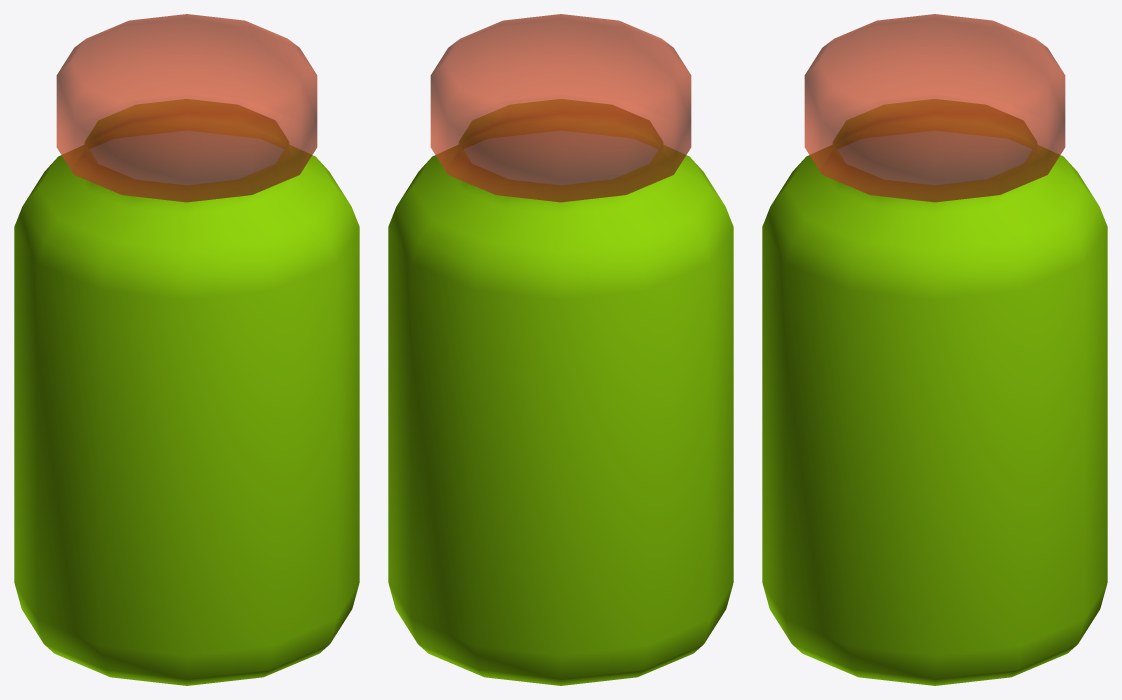
Rendered from SPP_MOD_Antidote_01.fbx.
3 renders of one model, left to right at view 1: azimuth 30°, elevation 25°; view 2: azimuth 150°, elevation 25°; view 3: azimuth 270°, elevation 25°, orthographic.
Visible parts, largest first — view 1: SPP_MOD_Antidote_01; view 2: SPP_MOD_Antidote_01; view 3: SPP_MOD_Antidote_01.
Boxes of the visible parts, box(x1,y1,x2,y2) form: SPP_MOD_Antidote_01: box(14, 14, 359, 685); SPP_MOD_Antidote_01: box(388, 14, 733, 685); SPP_MOD_Antidote_01: box(762, 14, 1107, 685).
Size of the model in its own units: 0.0351 by 0.0625 by 0.0351.
